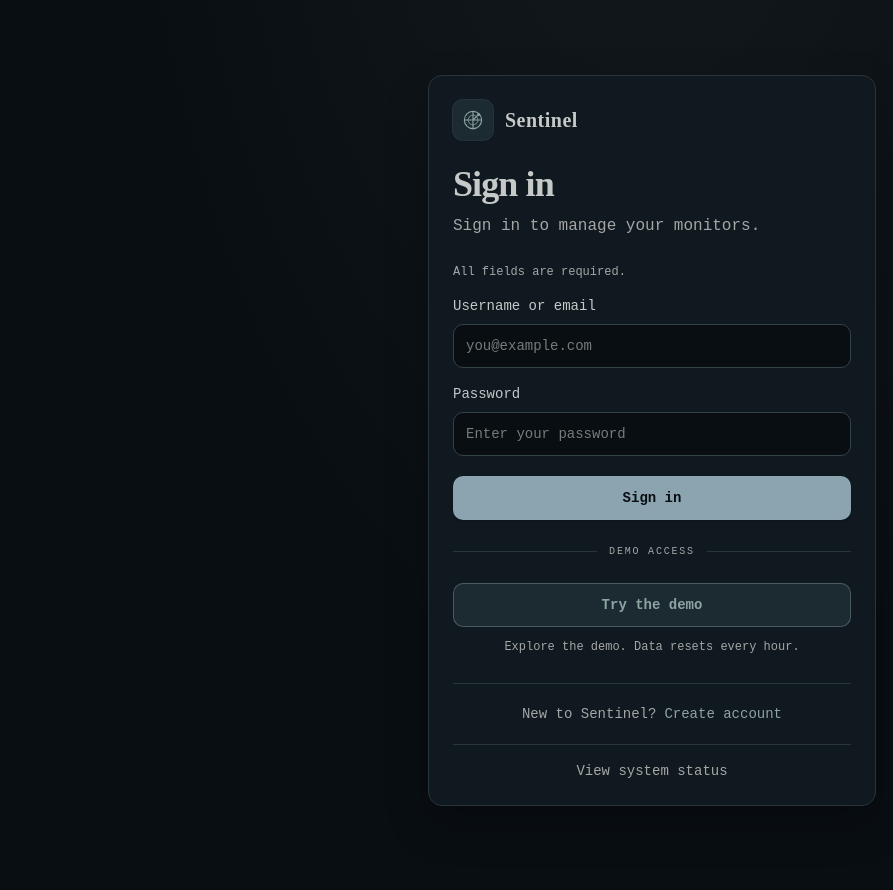
LoginPage › blocks login while demo is pending and releases both alternatives on unavailable
The image size is (893, 890).
Click the button "Try the demo" at {"x": 652, "y": 604}, box [453, 582, 851, 626]
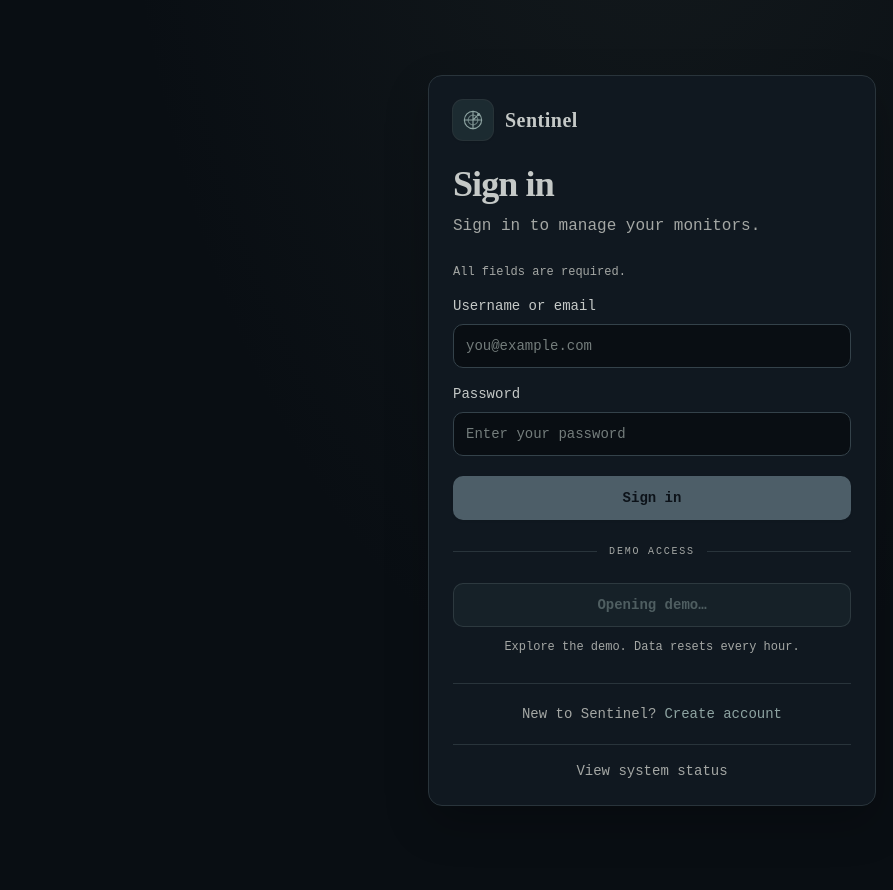
Result: the button "Opening demo…" is disabled at [453, 582, 851, 626]
Result: the button "Sign in" is disabled
Click the button "Sign in" at {"x": 652, "y": 498}, box [453, 476, 851, 520]
(page scrolled)
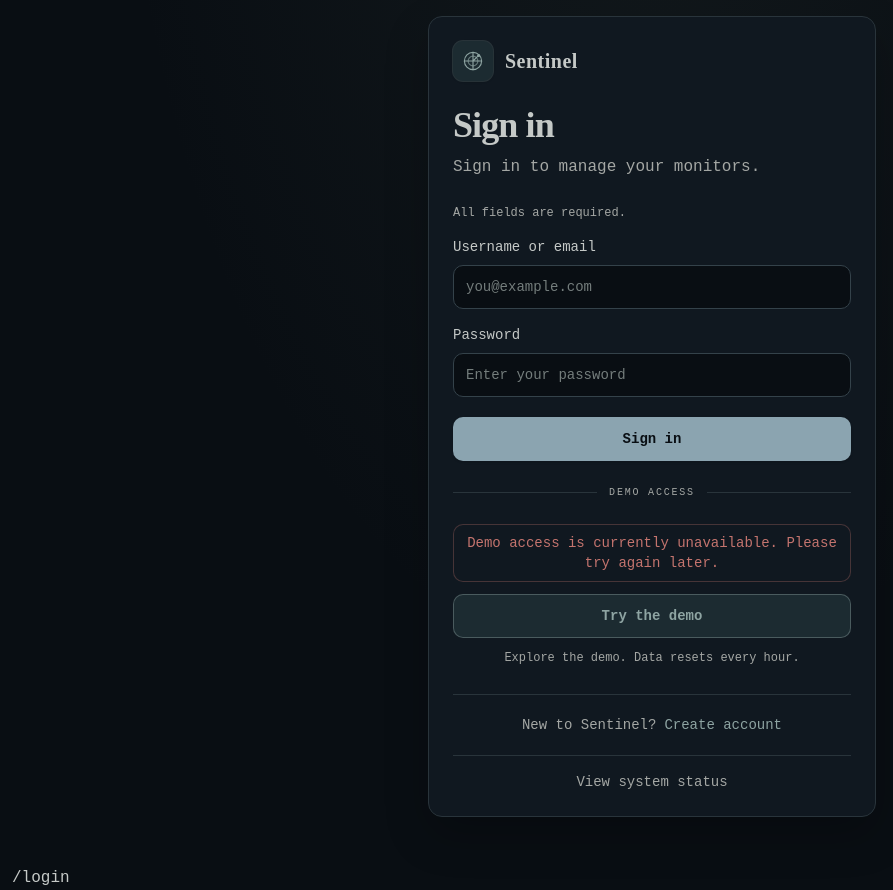
Result: the text "Demo access is currently unavailable. Please try again later." is shown at [453, 524, 851, 582]
Result: the button "Sign in" is enabled at [453, 416, 851, 460]
Result: the button "Try the demo" is enabled at [453, 594, 851, 638]
